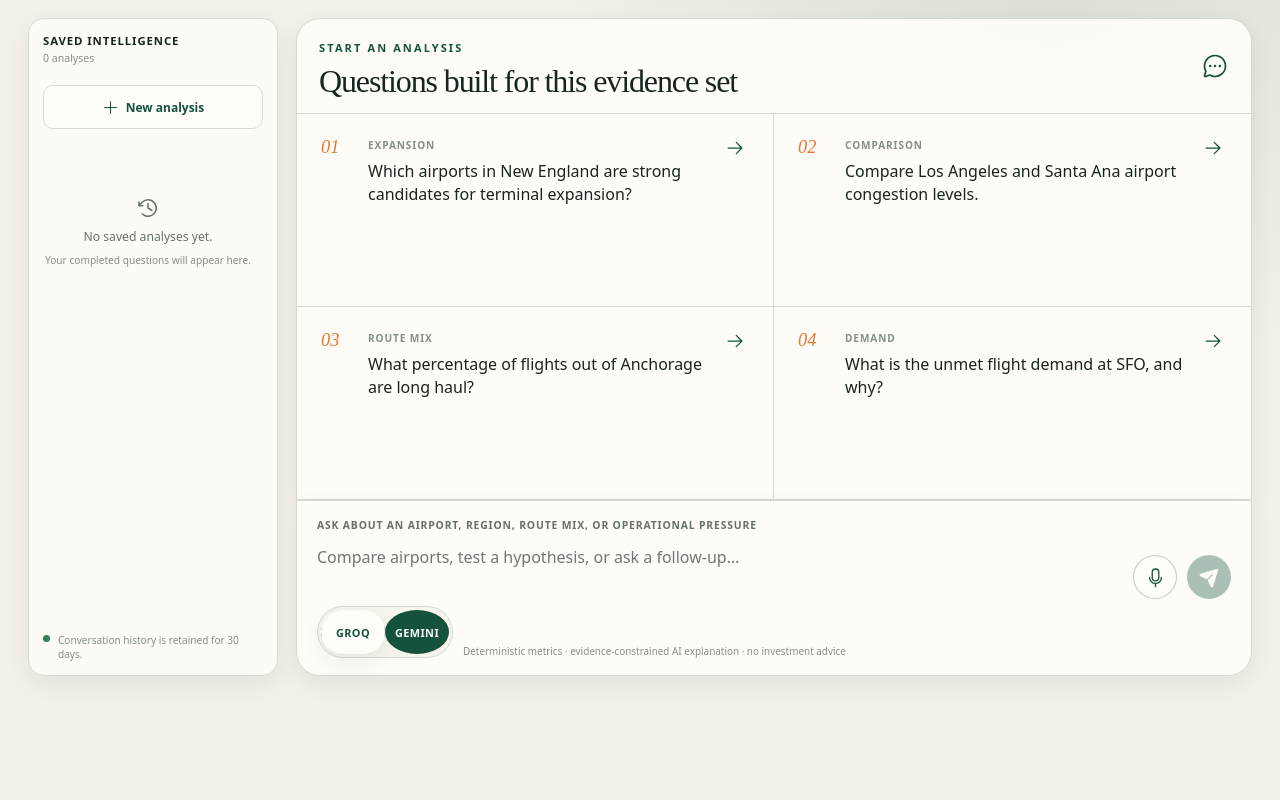
Test: client voice dictation › asks the browser for microphone permission when recognition is blocked
This screenshot has width=1280, height=800.
Click the button named "Dictate question".
click(1155, 577)  # box [1133,555,1177,599]
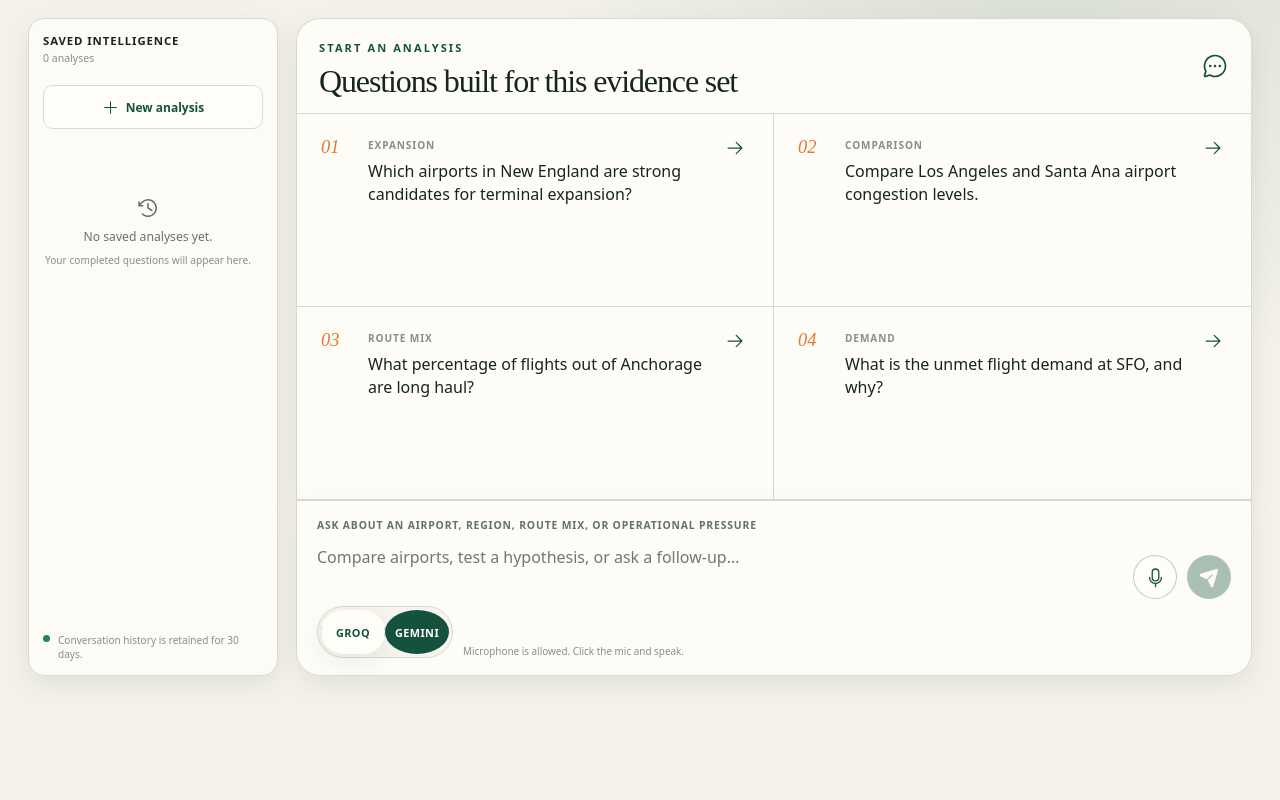
Expected: the text "Microphone is allowed. Click the mic and speak." is shown, [463,644,684,658]
